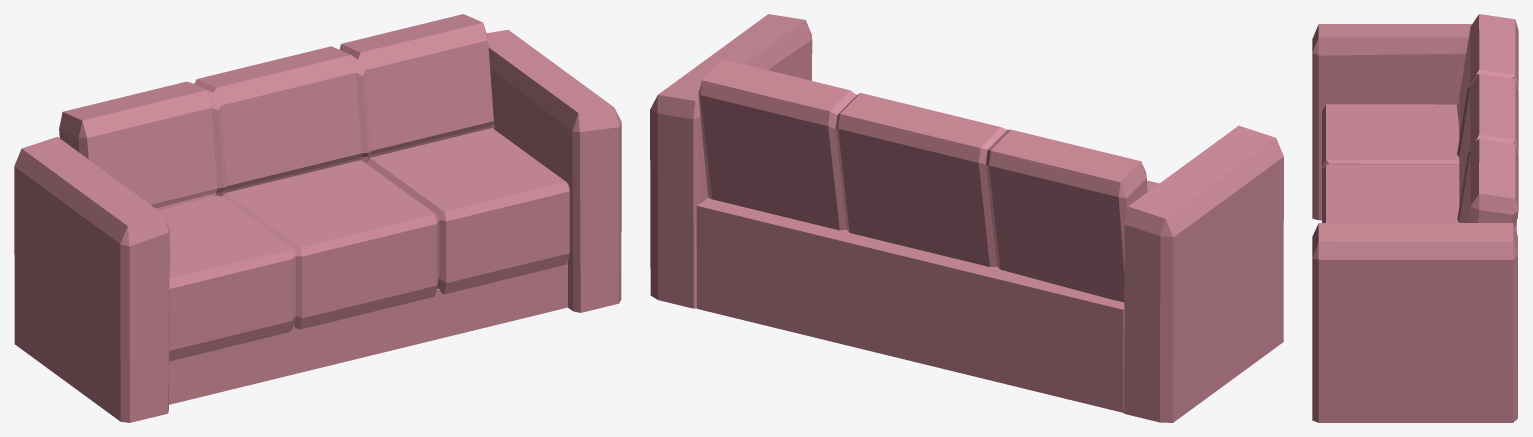
File: Couch_1.fbx
3 renders of one model, left to right at view 1: azimuth 30°, elevation 25°; view 2: azimuth 150°, elevation 25°; view 3: azimuth 270°, elevation 25°, orthographic. The views are drawn at different scales.
Parts seen in each view (by area): view 1: Couch_1; view 2: Couch_1; view 3: Couch_1.
Part boxes in pixels (bbox=[...]): Couch_1: bbox=[14, 14, 621, 422]; Couch_1: bbox=[650, 14, 1283, 422]; Couch_1: bbox=[1312, 14, 1518, 422].
Bounding box in the file's own units: 316 × 123 × 136.
